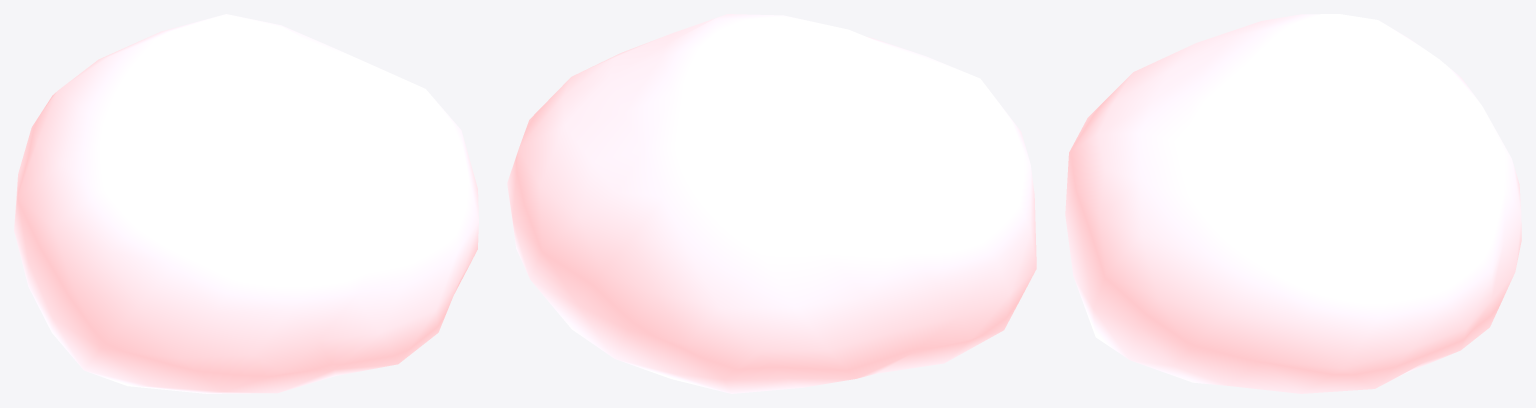
Rendered from PulsingNodule_01.fbx.
The picture shows the model from 3 angles, left to right: view 1: azimuth 30°, elevation 25°; view 2: azimuth 150°, elevation 25°; view 3: azimuth 270°, elevation 25°; orthographic projection. The views are drawn at different scales.
Visible parts, largest first — view 1: PulsingNodule_01; view 2: PulsingNodule_01; view 3: PulsingNodule_01.
Boxes of the visible parts, box(x1,y1,x2,y2) form: PulsingNodule_01: box(14, 14, 478, 393); PulsingNodule_01: box(507, 14, 1036, 393); PulsingNodule_01: box(1065, 14, 1521, 393).
Bounding box in the file's own units: 106 × 71.18 × 96.11.
